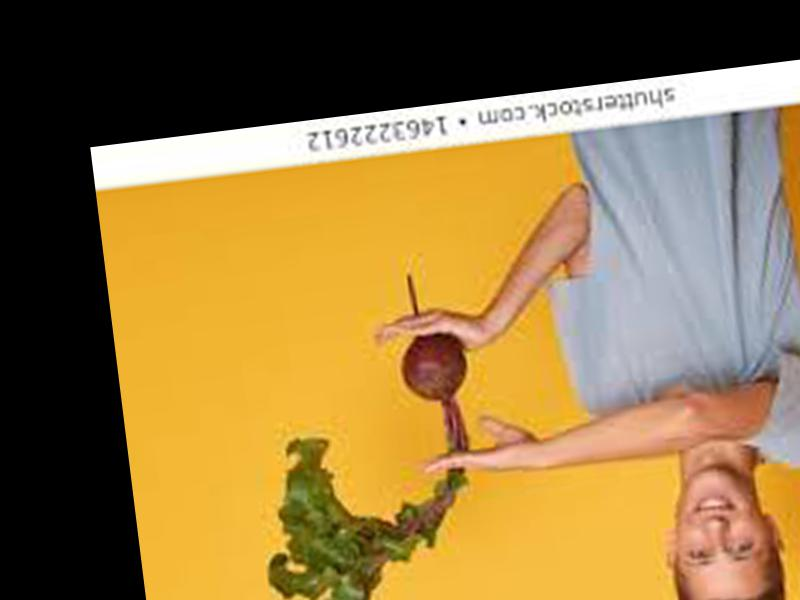Beet: (233, 270, 496, 600)
